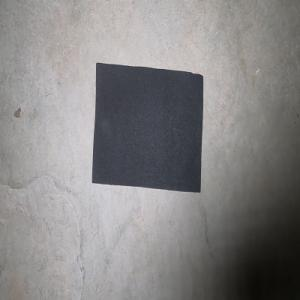PaintChip: (91, 62, 203, 192)
